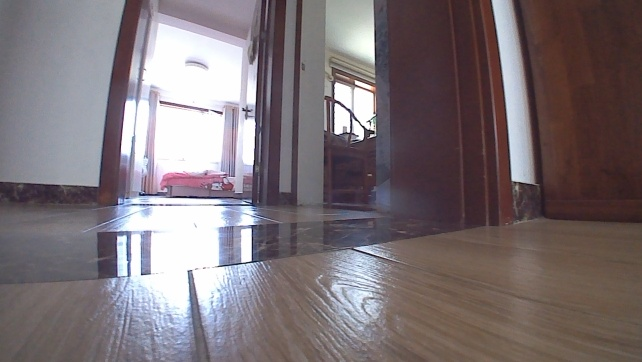bed1: (158, 168, 236, 197)
door_anno: (240, 0, 286, 208)
